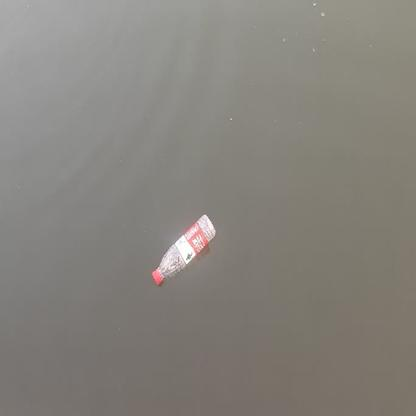plastic bottle: (150, 214, 216, 285)
